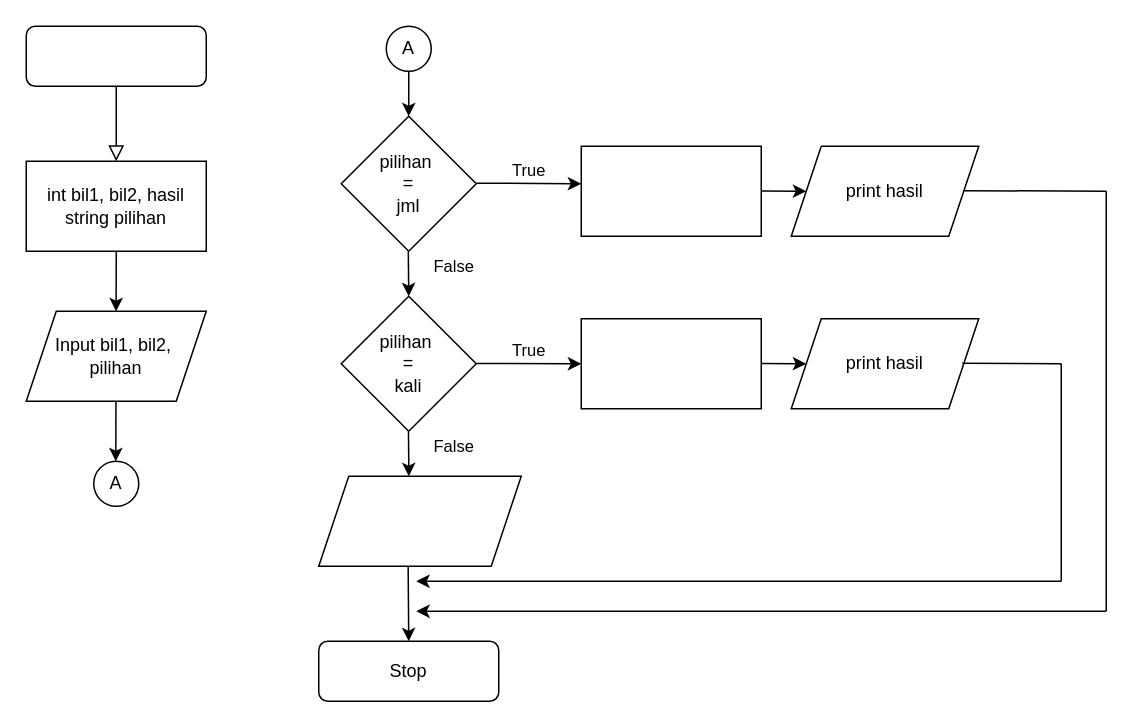
Some shapes in this 1145 by 728 pixel diagram are drawn without their labels. The shapes that lost their labels are listed below. From the top down, each one's box as (x1, y1, x2, y2) in pixels, then its label:
(25, 25, 206, 86): Start
(580, 145, 761, 236): hasil = bil1 + bil2
(580, 317, 761, 409): hasil = bil1 * bil2
(317, 475, 521, 566): print "pilihan tidak valid"
